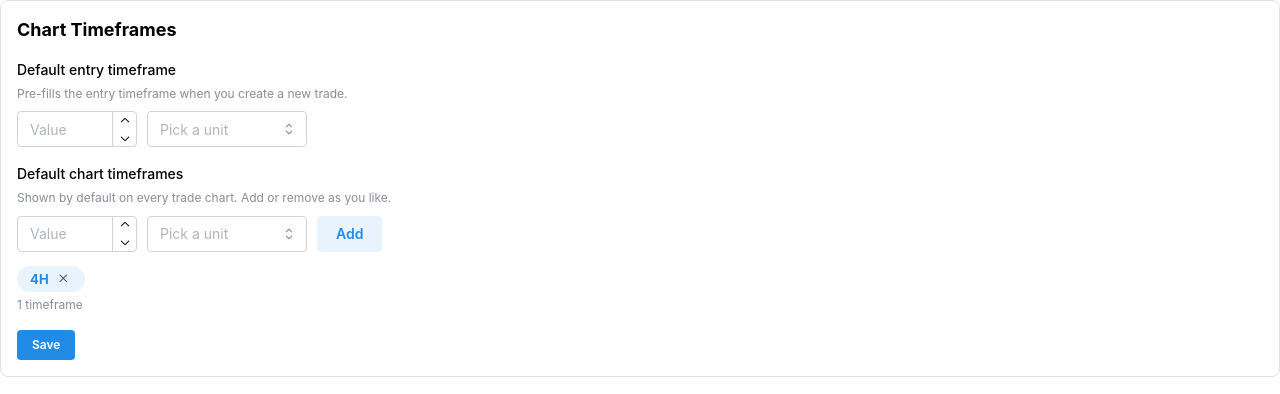
Scenario: ChartTimeframesCard › removes a timeframe from the list
Click the button named "Remove 4h": x=63, y=279 [54,270,72,288]
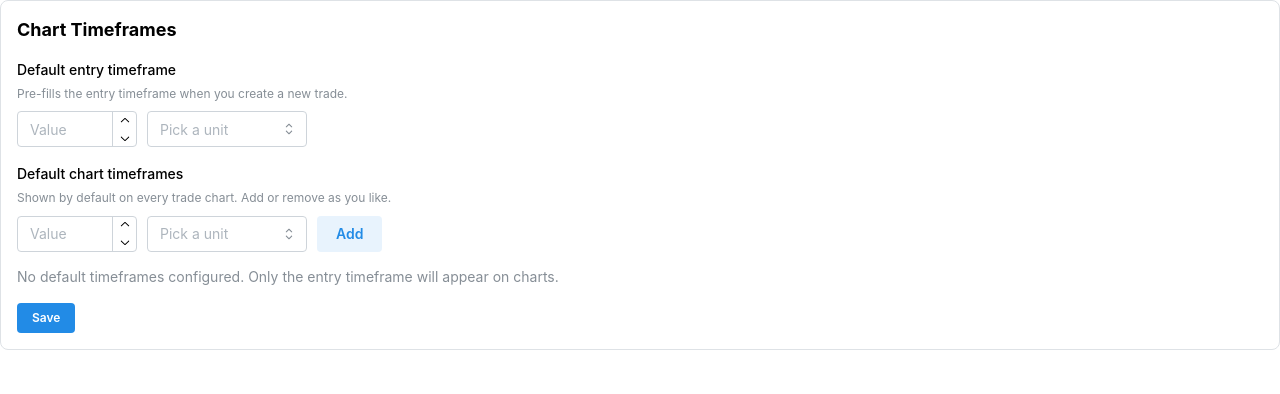
Expected: the text "4h" is gone
